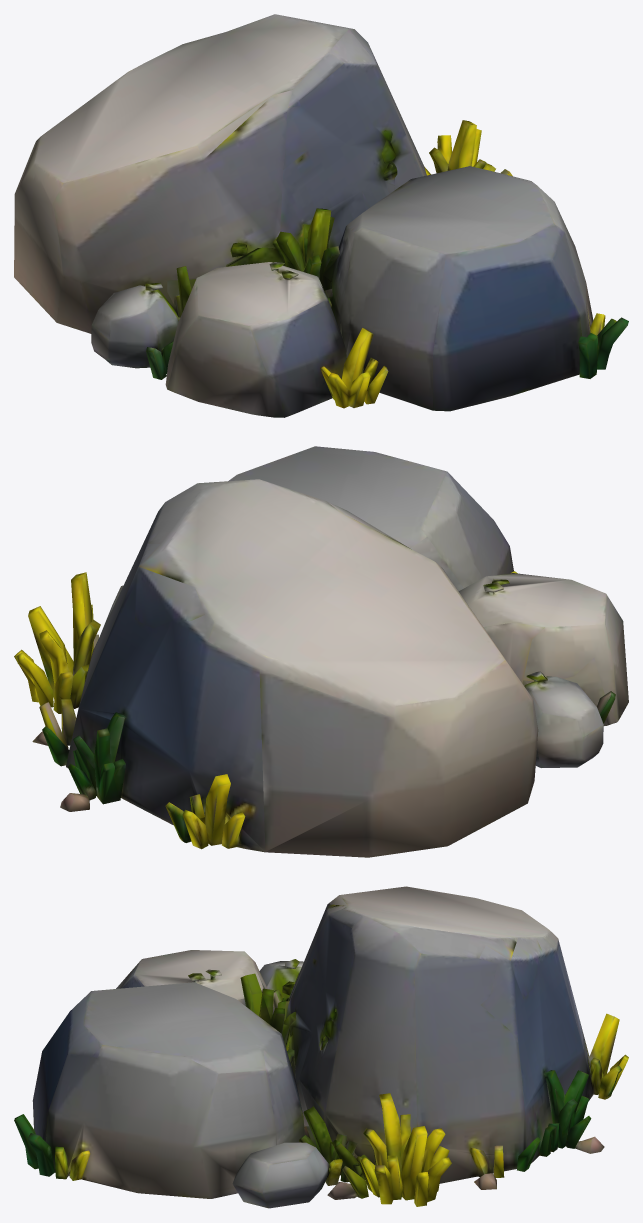
The model's file is rock-cluster-a.glb.
3 renders of one model, top to bottom at view 1: azimuth 30°, elevation 25°; view 2: azimuth 150°, elevation 25°; view 3: azimuth 270°, elevation 25°, orthographic. The views are drawn at different scales.
Parts seen in each view (by area): view 1: node_0; view 2: node_0; view 3: node_0.
Part boxes in pixels (x1,y1,x2,y2): node_0: [14, 14, 628, 417]; node_0: [14, 446, 628, 857]; node_0: [14, 886, 628, 1208].
Size of the model in its own units: 2.04 by 0.9465 by 2.5.
1 material, 1 textured.
